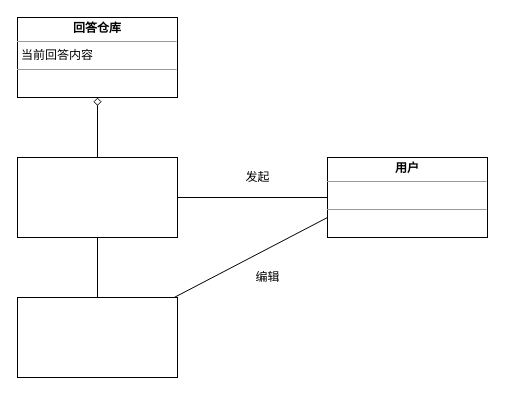
The diagram is 505 pixels wide and 395 high, and some of its shapes have lost their labels. The shapes that lost their labels are listed below. From the top down, each one's centre as x and y in pixels, then its label:
(x=97, y=197): 合并请求
(x=97, y=337): 修改过的内容
